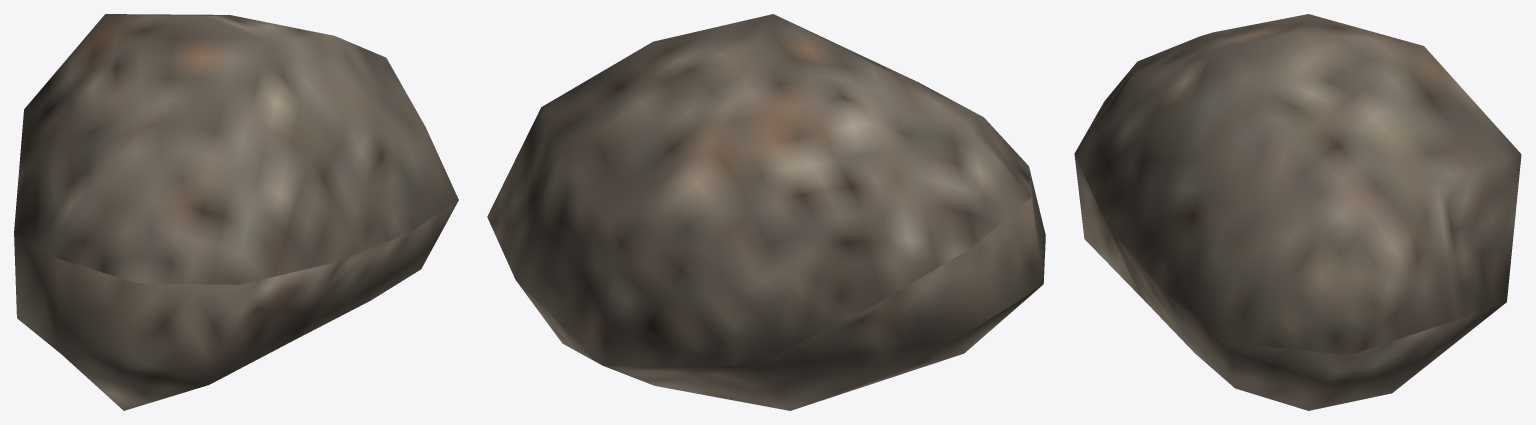
File: rock_Medium_001.fbx
The picture shows the model from 3 angles, left to right: view 1: azimuth 30°, elevation 25°; view 2: azimuth 150°, elevation 25°; view 3: azimuth 270°, elevation 25°; orthographic projection. The views are drawn at different scales.
Parts seen in each view (by area): view 1: rock_Medium.001; view 2: rock_Medium.001; view 3: rock_Medium.001.
Boxes of the visible parts, x1,y1,x2,y2 form: rock_Medium.001: (14,14,458,410); rock_Medium.001: (487,14,1045,410); rock_Medium.001: (1074,14,1521,410).
Size of the model in its own units: 171 by 117 by 148.
1 material, 1 textured.
